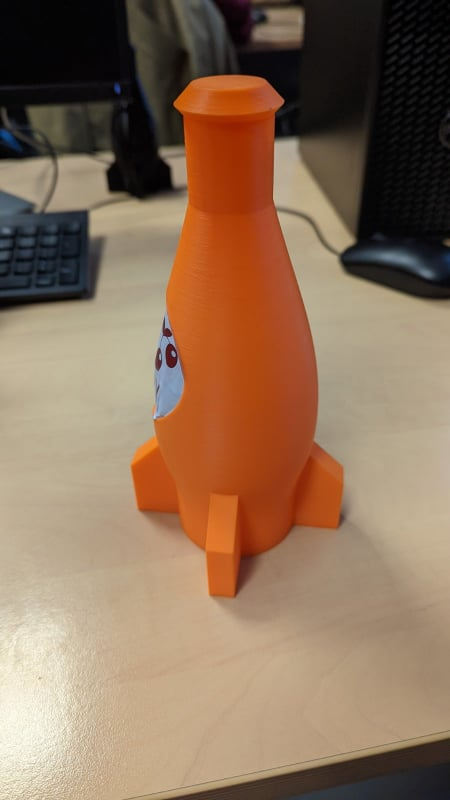bottle: (121, 64, 353, 611)
